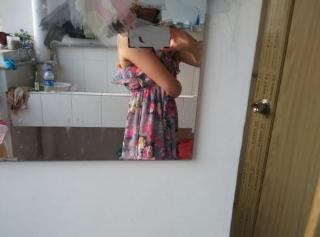sling: (111, 23, 181, 160)
